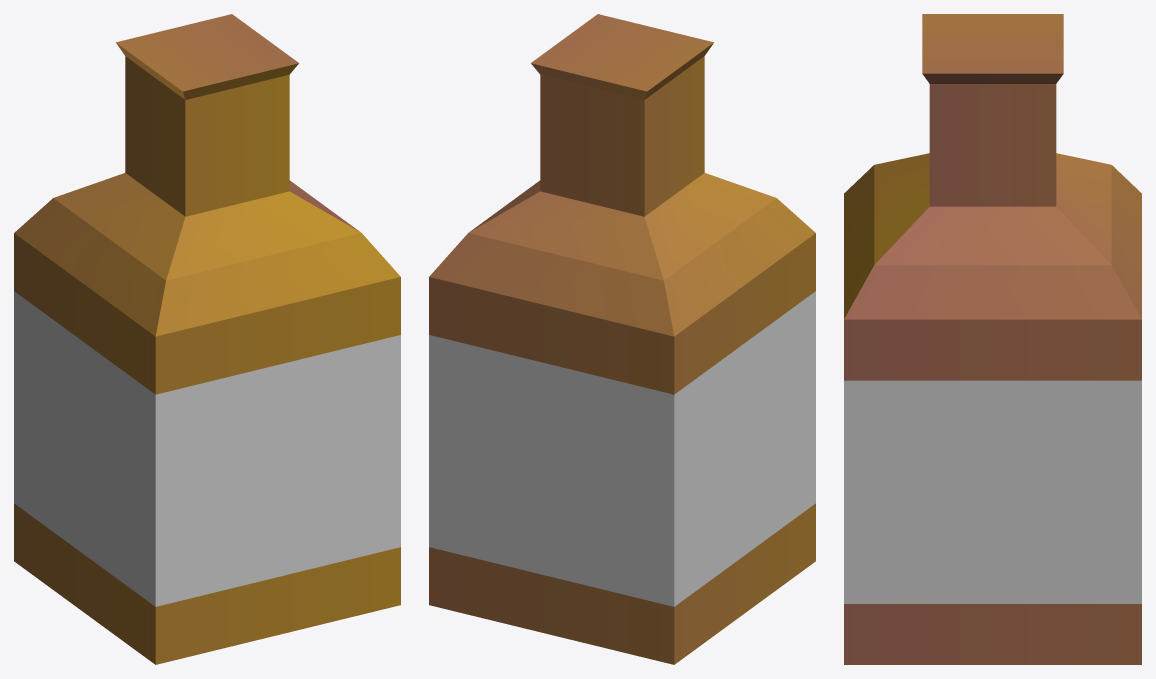
The model's file is B01_bouteille_2_b.fbx.
The picture shows the model from 3 angles, left to right: view 1: azimuth 30°, elevation 25°; view 2: azimuth 150°, elevation 25°; view 3: azimuth 270°, elevation 25°; orthographic projection. The views are drawn at different scales.
Parts seen in each view (by area): view 1: B01_bouteille_2_b; view 2: B01_bouteille_2_b; view 3: B01_bouteille_2_b.
Part boxes in pixels (<box>): B01_bouteille_2_b: <box>14,14,400,664</box>; B01_bouteille_2_b: <box>429,14,815,664</box>; B01_bouteille_2_b: <box>844,14,1141,664</box>.
Size of the model in its own units: 10.81 by 22.35 by 10.81.
